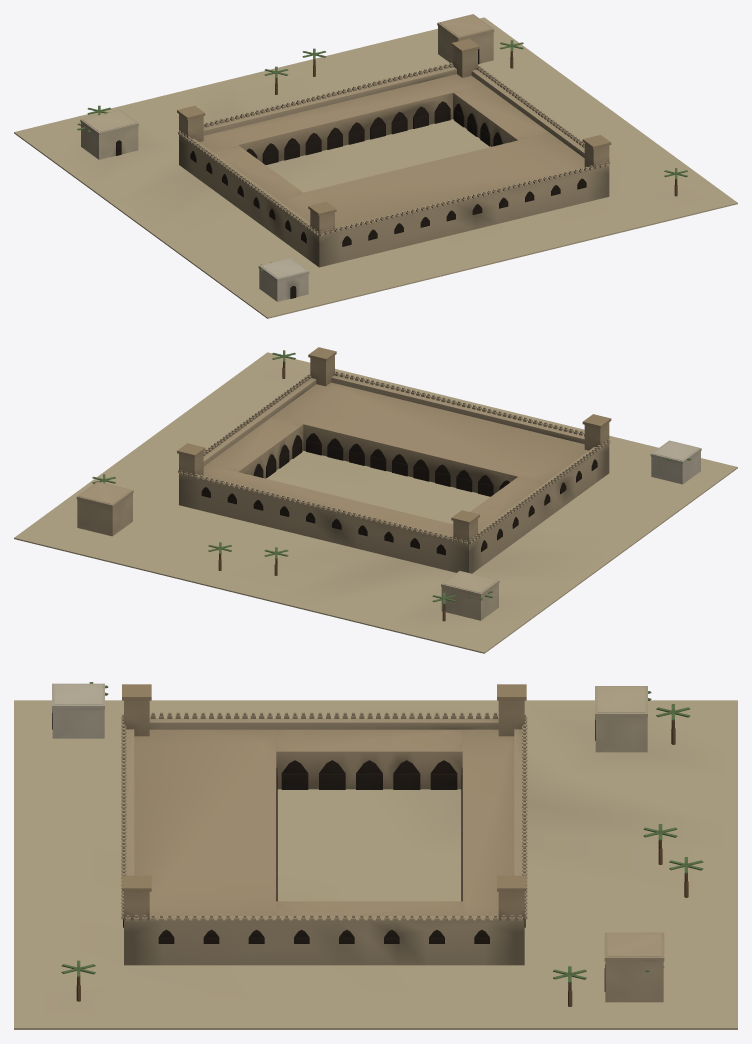
The model's file is amr-mosque-700.glb.
3 renders of one model, top to bottom at view 1: azimuth 30°, elevation 25°; view 2: azimuth 150°, elevation 25°; view 3: azimuth 270°, elevation 25°, orthographic. The views are drawn at different scales.
Parts seen in each view (by area): view 1: p0_walls, p1_halls, p2_towers; view 2: p0_walls, p1_halls, p2_towers; view 3: p0_walls, p1_halls, p2_towers.
Part boxes in pixels (left/top/right/bottom): p0_walls: left=14, top=17, right=737, bottom=318; p1_halls: left=199, top=74, right=584, bottom=228; p2_towers: left=77, top=14, right=687, bottom=301; p0_walls: left=14, top=352, right=737, bottom=653; p1_halls: left=203, top=382, right=588, bottom=536; p2_towers: left=76, top=347, right=701, bottom=620; p0_walls: left=14, top=700, right=737, bottom=1029; p1_halls: left=134, top=729, right=514, bottom=915; p2_towers: left=52, top=682, right=703, bottom=1002.
Size of the model in its own units: 120 by 13.65 by 112.
